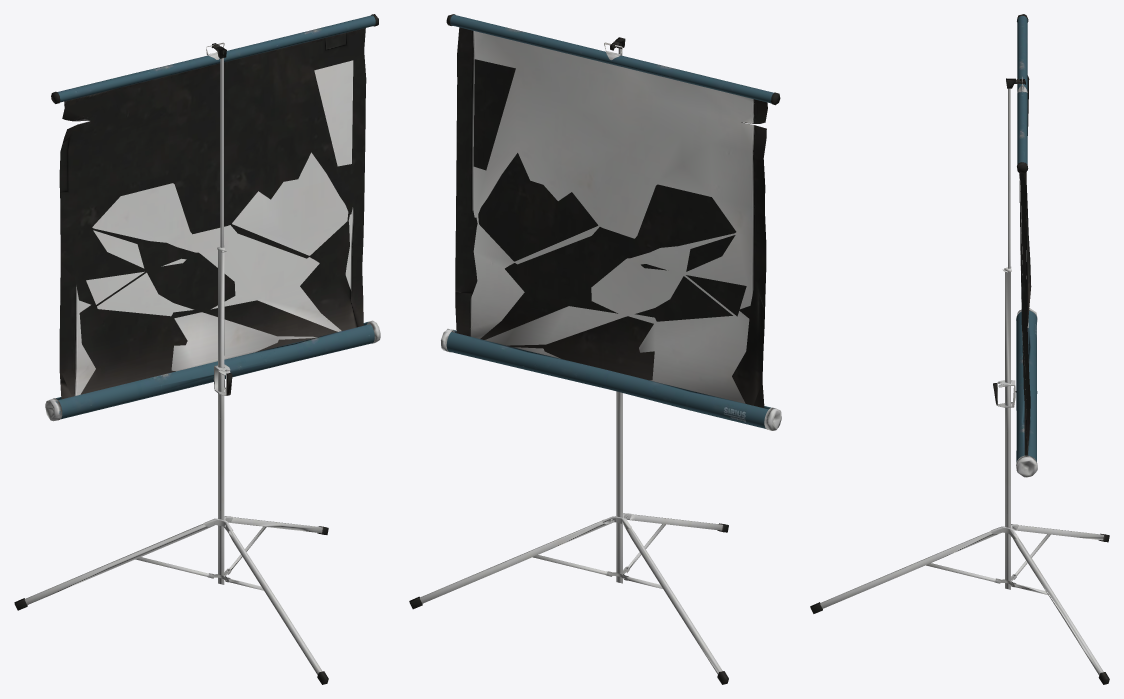
File: projector.glb
3 views of the same model, side by side, from view 1: azimuth 30°, elevation 25°; view 2: azimuth 150°, elevation 25°; view 3: azimuth 270°, elevation 25° (orthographic). The views are drawn at different scales.
Visible parts, largest first — view 1: projector_screen; view 2: projector_screen; view 3: projector_screen.
Part boxes in pixels (<box>): projector_screen: <box>14,14,380,684</box>; projector_screen: <box>409,14,781,684</box>; projector_screen: <box>810,14,1109,684</box>.
Bounding box in the file's own units: 1.09 × 1.8 × 0.9158.
Materials: 2 (2 with a texture image).
